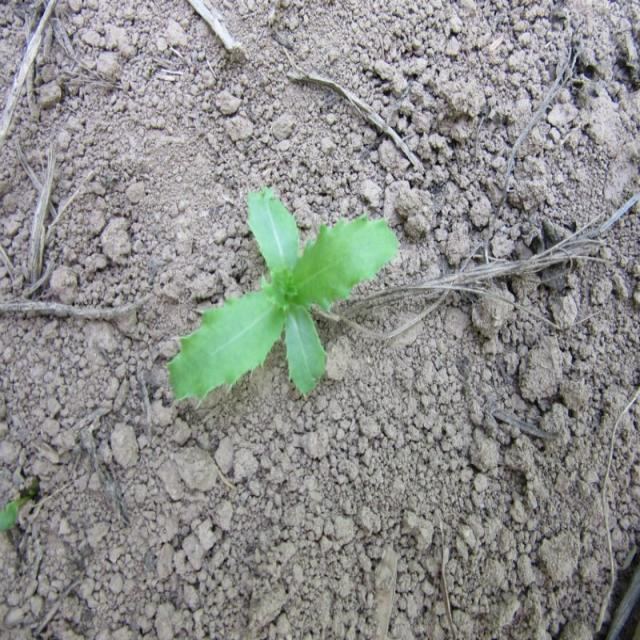cs: (163, 189, 403, 411)
